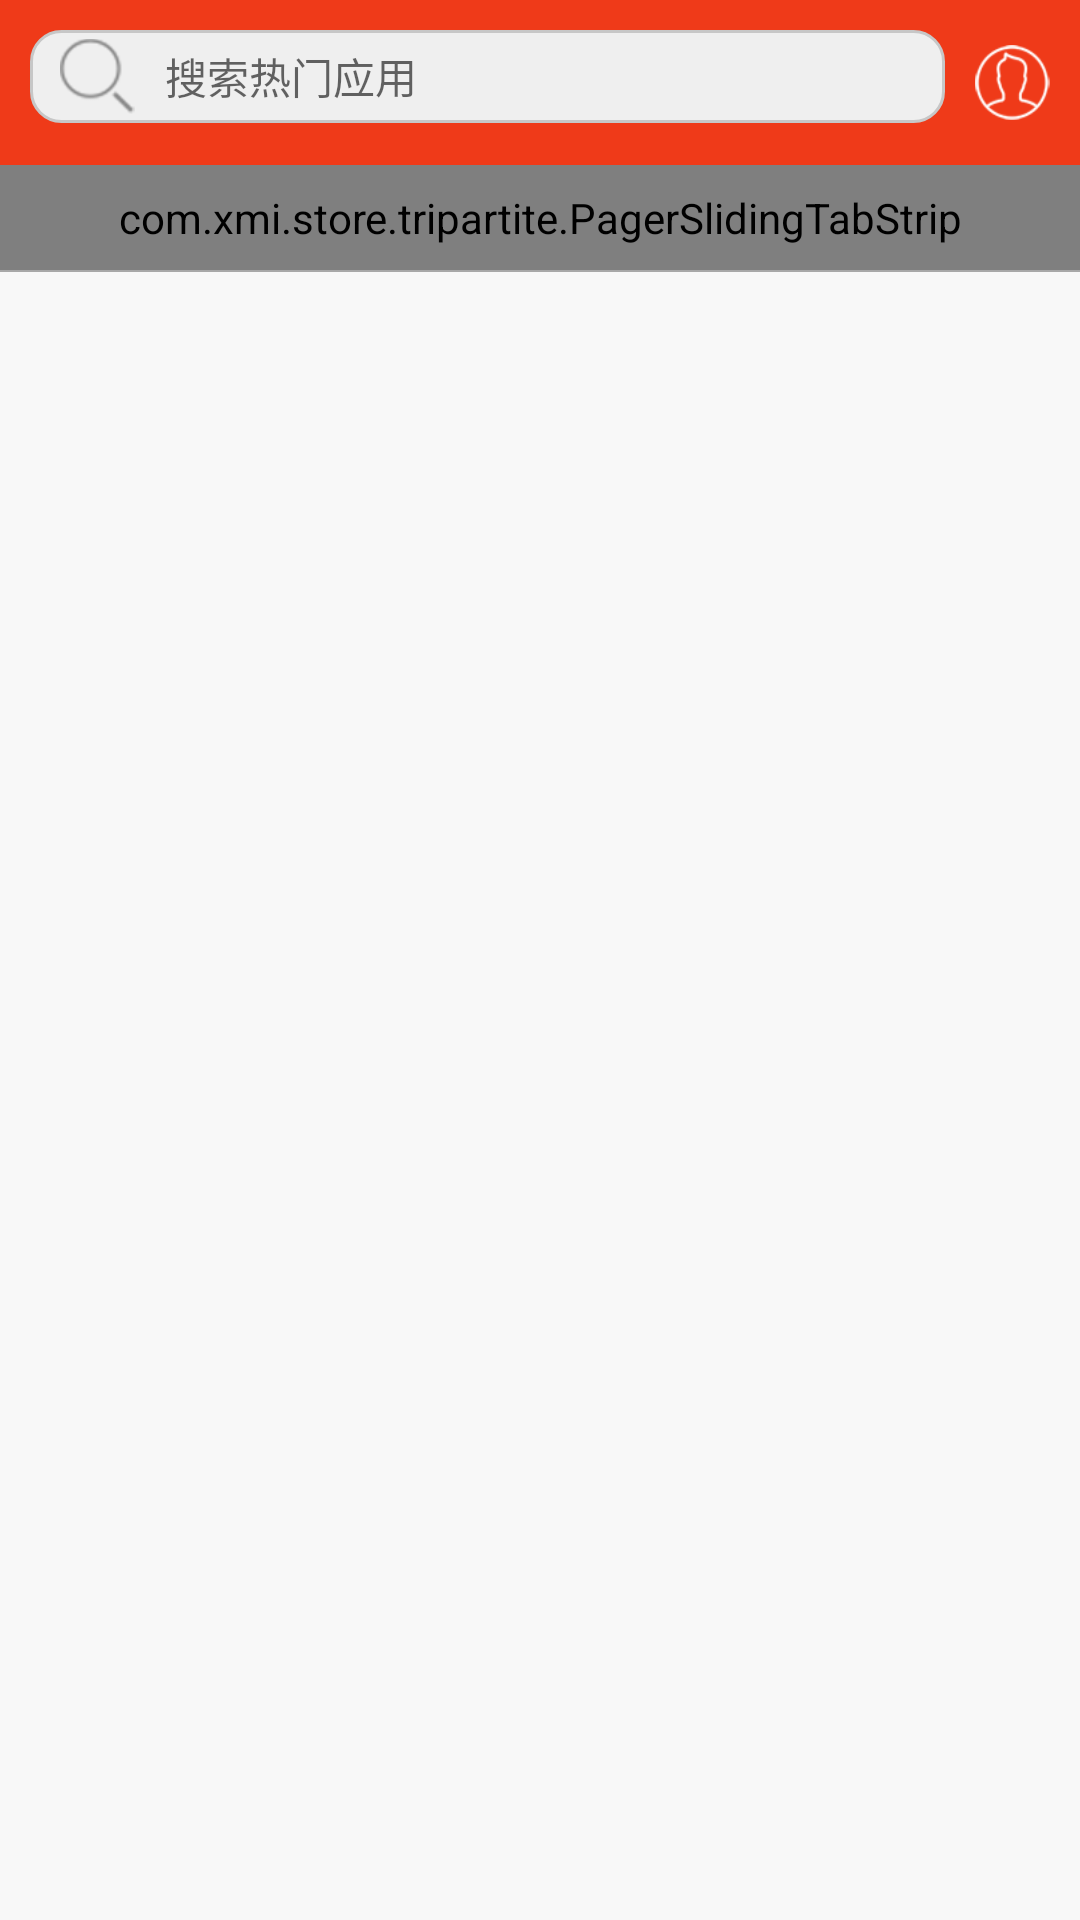

Named icons in this screenshot (1080w x 1920h) and their centers, point (x, y):
user: point (1012, 82)
